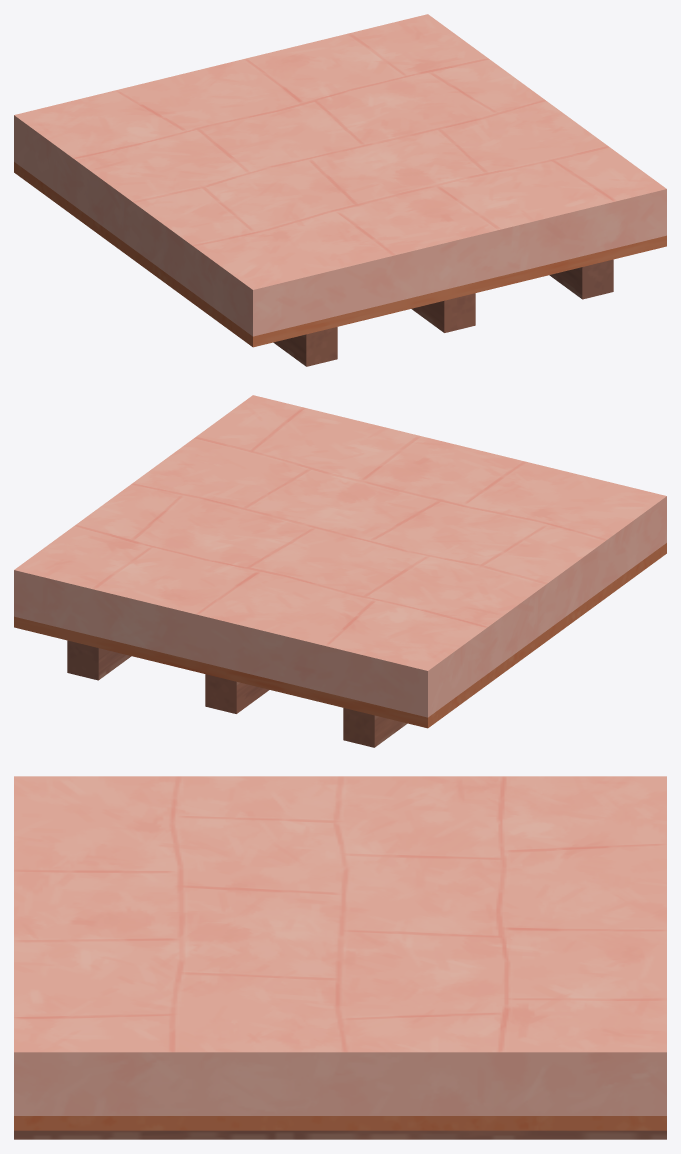
File: floor.fbx
3 views of the same model, one above another, from view 1: azimuth 30°, elevation 25°; view 2: azimuth 150°, elevation 25°; view 3: azimuth 270°, elevation 25° (orthographic). The views are drawn at different scales.
Visible parts, largest first — view 1: floor; view 2: floor; view 3: floor.
Boxes of the visible parts, box(x1,y1,x2,y2) form: floor: box(14, 14, 666, 366); floor: box(14, 395, 666, 747); floor: box(14, 776, 666, 1139).
Bounding box in the file's own units: 8 × 1.66 × 8.
1 material, 1 textured.
